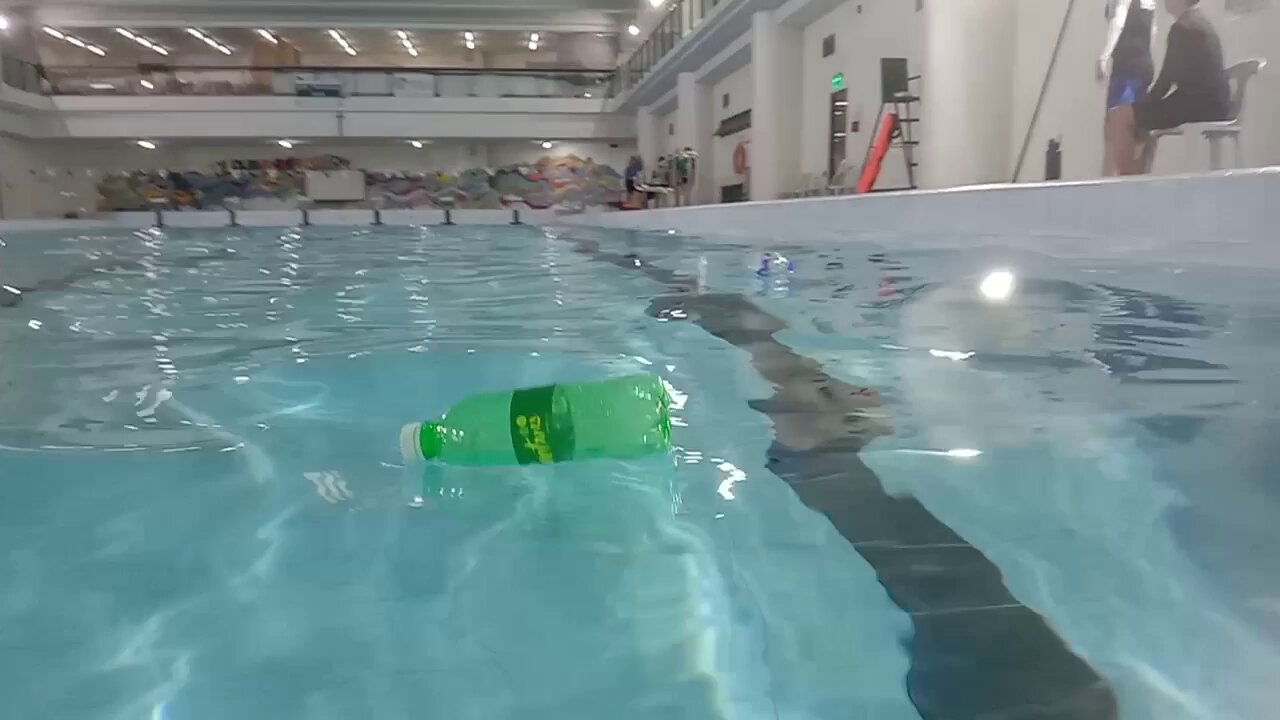plastic_bottle: (399, 373, 671, 473), (701, 249, 799, 277)
